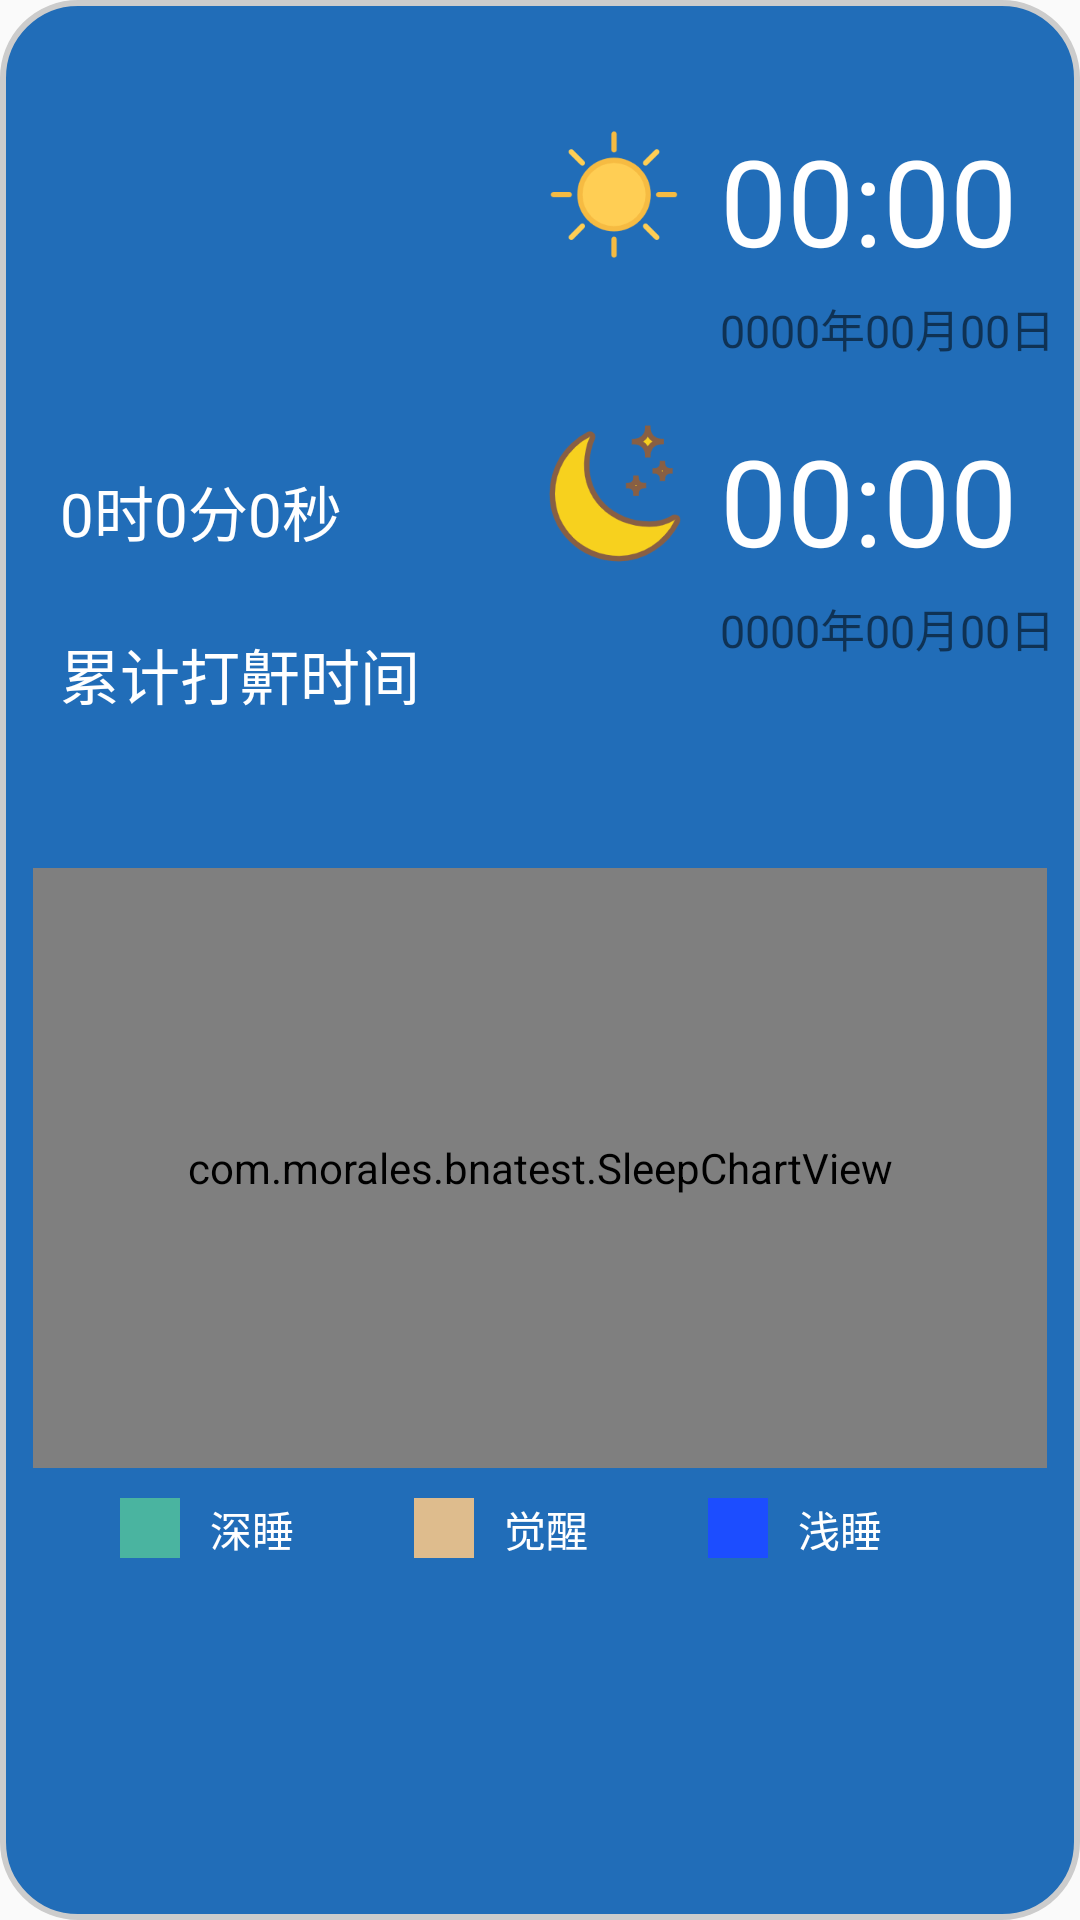

Icon click points for this 1080 × 1920 phone screenshot, format (x,y):
getup: (614,194)
sleep: (615,493)
